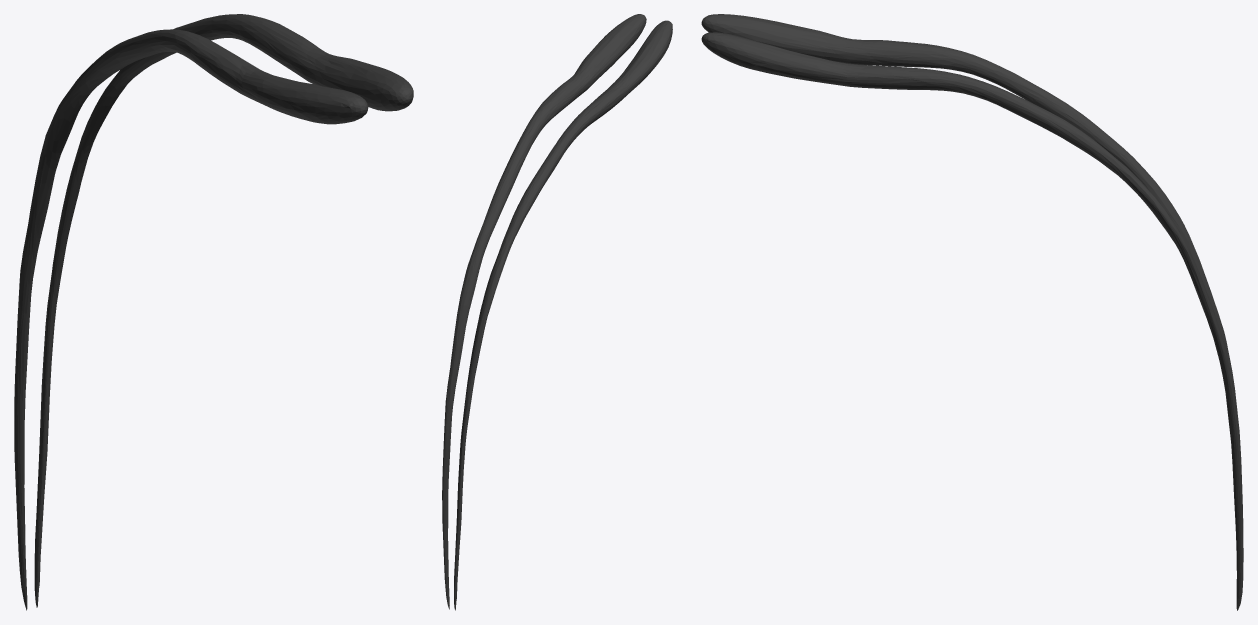
File: m_sacrocaudalis_dorsalis_lateralis.glb
3 renders of one model, left to right at view 1: azimuth 30°, elevation 25°; view 2: azimuth 150°, elevation 25°; view 3: azimuth 270°, elevation 25°, orthographic. The views are drawn at different scales.
Visible parts, largest first — view 1: m_sacrocaudalis_dorsalis_lateralis; view 2: m_sacrocaudalis_dorsalis_lateralis; view 3: m_sacrocaudalis_dorsalis_lateralis.
Boxes of the visible parts, x1=… form: m_sacrocaudalis_dorsalis_lateralis: x1=14, y1=14, x2=413, y2=610; m_sacrocaudalis_dorsalis_lateralis: x1=442, y1=14, x2=672, y2=610; m_sacrocaudalis_dorsalis_lateralis: x1=701, y1=14, x2=1243, y2=610.
Size of the model in its own units: 0.00108 by 0.00757 by 0.00636.
1 material, 1 textured.
